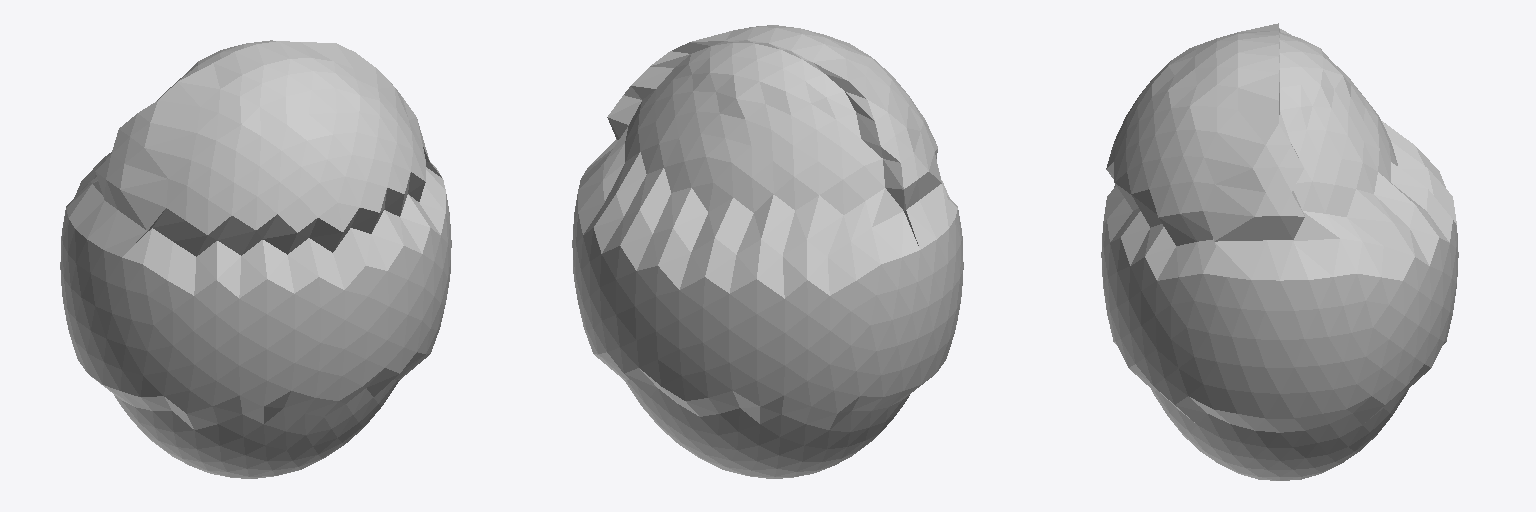
Rendered from overweight_after.obj.
3 views of the same model, side by side, from view 1: azimuth 30°, elevation 25°; view 2: azimuth 150°, elevation 25°; view 3: azimuth 270°, elevation 25° (orthographic).
Bounding box in the file's own units: 1.47 × 1.71 × 1.31.